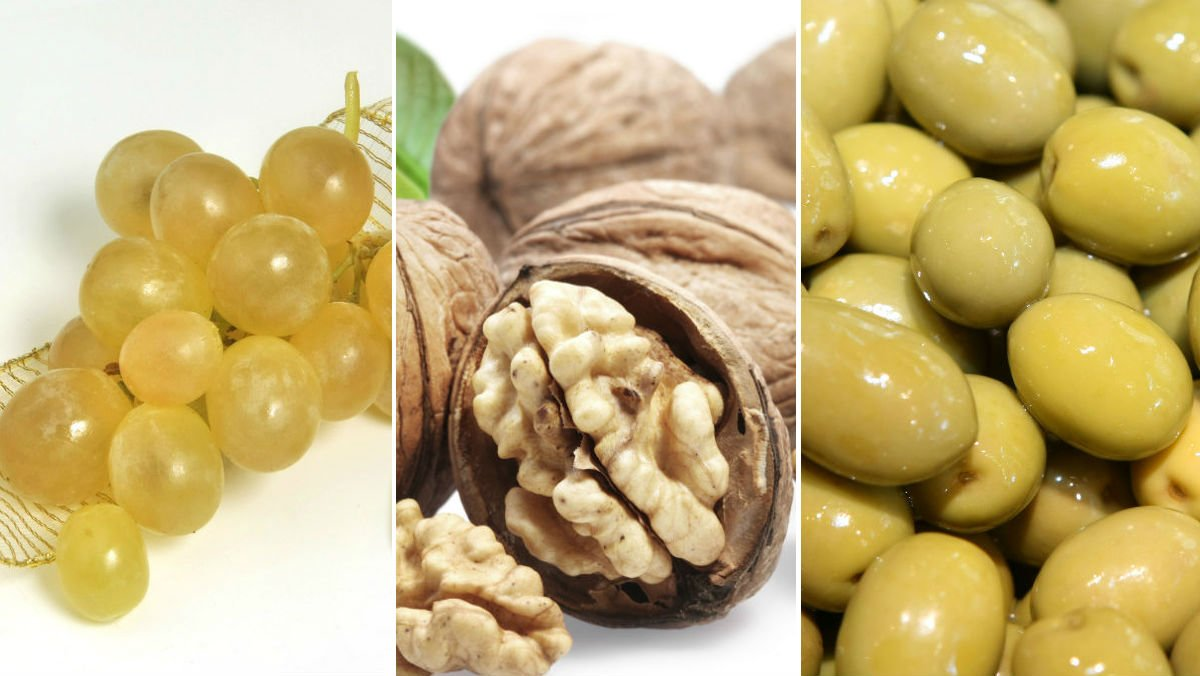Green grapes: (28, 148, 339, 594)
